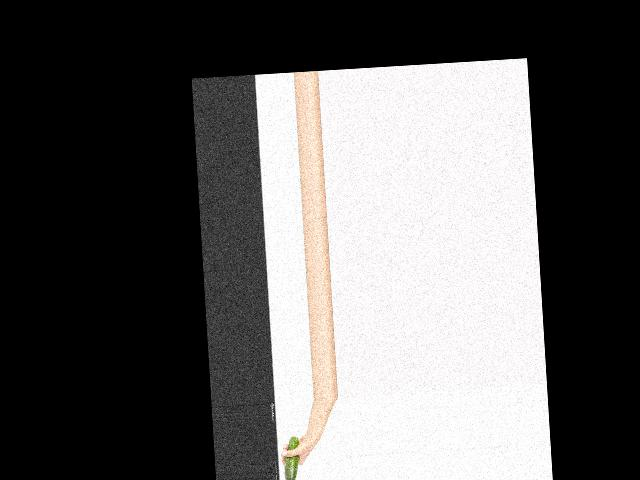cucumber: (281, 436, 301, 480)
